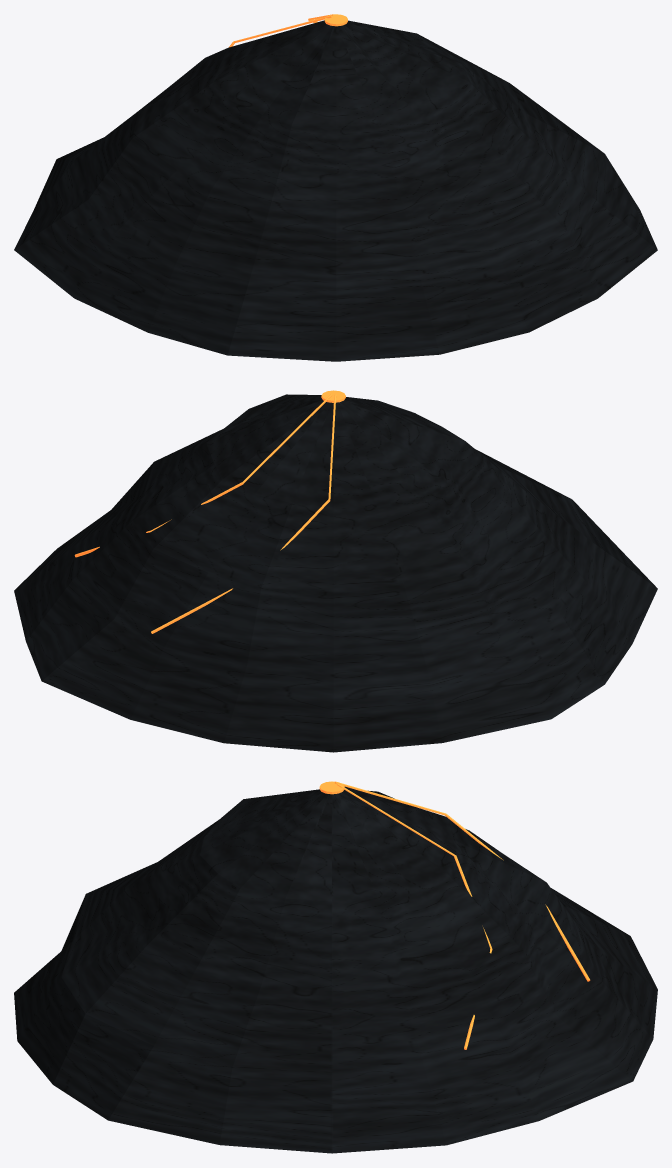
File: volcano-lod2.glb
The picture shows the model from 3 angles, top to bottom: view 1: azimuth 30°, elevation 25°; view 2: azimuth 150°, elevation 25°; view 3: azimuth 270°, elevation 25°; orthographic projection. The views are drawn at different scales.
Parts seen in each view (by area): view 1: BasaltStratovolcano, CinematicBatch_lava; view 2: BasaltStratovolcano, CinematicBatch_lava; view 3: BasaltStratovolcano, CinematicBatch_lava.
Boxes of the visible parts, left/top/right/bottom form: BasaltStratovolcano: left=14, top=20, right=657, bottom=361; CinematicBatch_lava: left=229, top=14, right=347, bottom=47; BasaltStratovolcano: left=14, top=394, right=657, bottom=752; CinematicBatch_lava: left=74, top=390, right=345, bottom=633; BasaltStratovolcano: left=14, top=786, right=657, bottom=1153; CinematicBatch_lava: left=319, top=781, right=590, bottom=1049.
Bounding box in the file's own units: 131 × 51.89 × 128.
2 materials, 1 textured.
